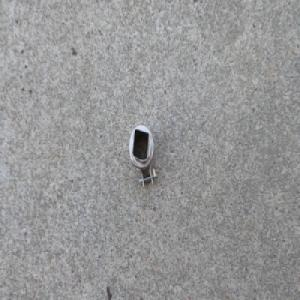MetalPart: (128, 123, 157, 189)
